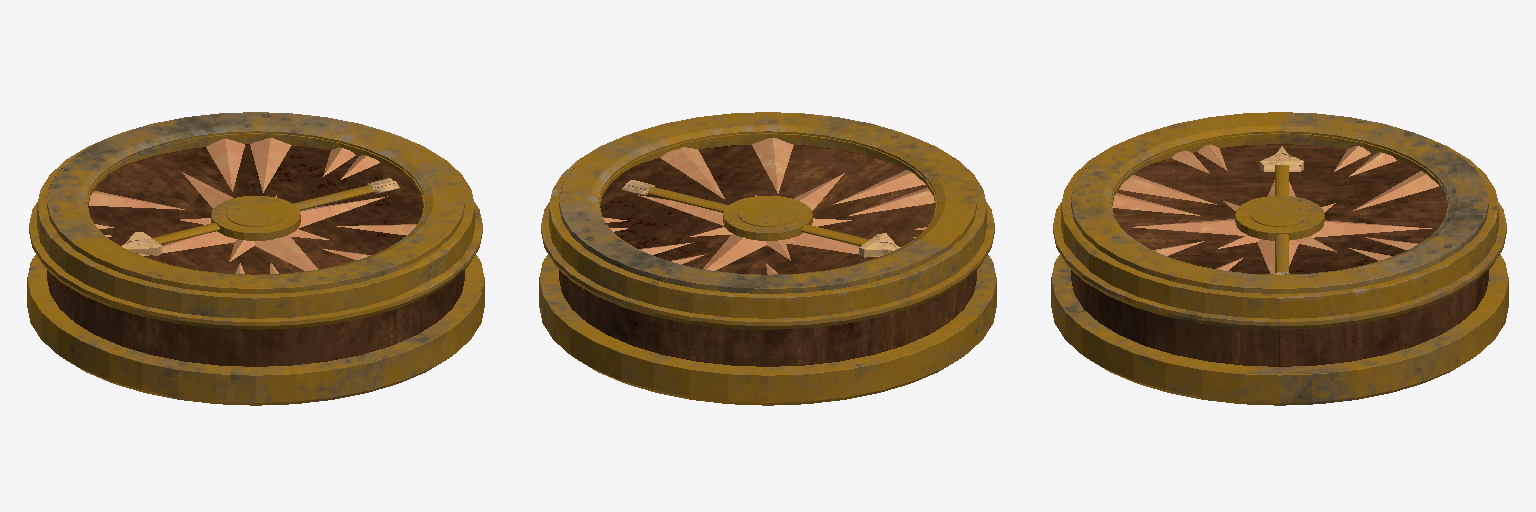
3 views of the same model, side by side, from view 1: azimuth 30°, elevation 25°; view 2: azimuth 150°, elevation 25°; view 3: azimuth 270°, elevation 25° (orthographic).
Visible parts, largest first — view 1: Subdivision_Surface_madera_oro; view 2: Subdivision_Surface_madera_oro; view 3: Subdivision_Surface_madera_oro.
Part boxes in pixels (x1,y1,x2,y2): Subdivision_Surface_madera_oro: (27, 112, 484, 405); Subdivision_Surface_madera_oro: (539, 112, 996, 405); Subdivision_Surface_madera_oro: (1051, 112, 1508, 405).
Size of the model in its own units: 2.21 by 0.5934 by 2.21.
1 materials, 1 textured.